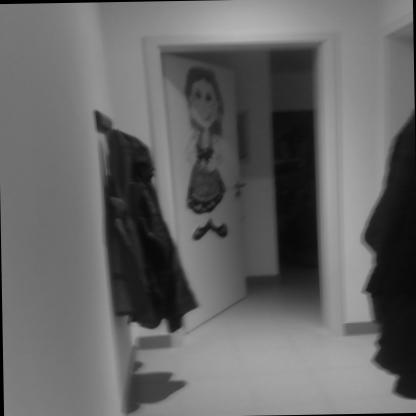semi: (132, 20, 349, 349)
